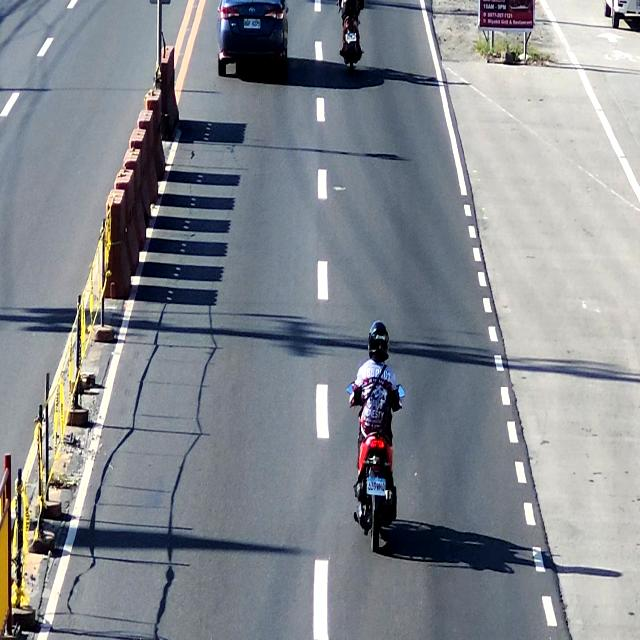Car: (215, 0, 289, 80)
License-Plate: (363, 473, 389, 499), (241, 15, 260, 32)
Motorcycle: (345, 326, 402, 565), (339, 0, 370, 73)
